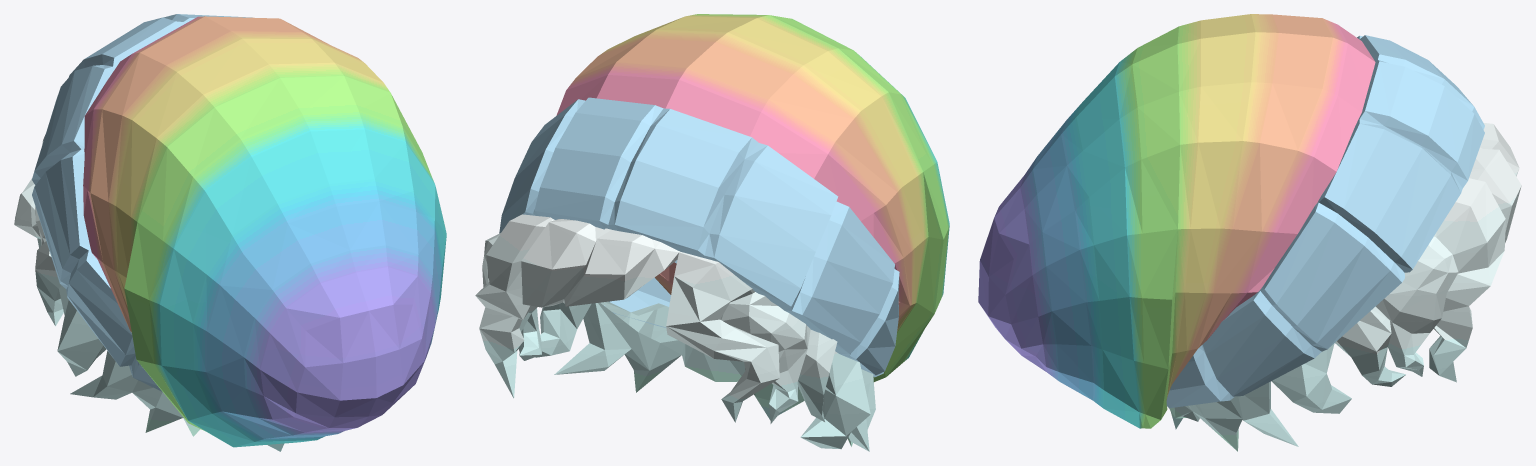
File: CharSkyKid_Hair_RainbowHat_01.glb
The picture shows the model from 3 angles, left to right: view 1: azimuth 30°, elevation 25°; view 2: azimuth 150°, elevation 25°; view 3: azimuth 270°, elevation 25°; orthographic projection. The views are drawn at different scales.
Parts seen in each view (by area): view 1: CharSkyKid_Hair_RainbowHat_01; view 2: CharSkyKid_Hair_RainbowHat_01; view 3: CharSkyKid_Hair_RainbowHat_01.
Part boxes in pixels (x1,y1,x2,y2): CharSkyKid_Hair_RainbowHat_01: [14, 14, 446, 451]; CharSkyKid_Hair_RainbowHat_01: [475, 14, 949, 451]; CharSkyKid_Hair_RainbowHat_01: [978, 14, 1521, 451].
Size of the model in its own units: 2.73 by 3.09 by 3.82.
1 material, 1 textured.
